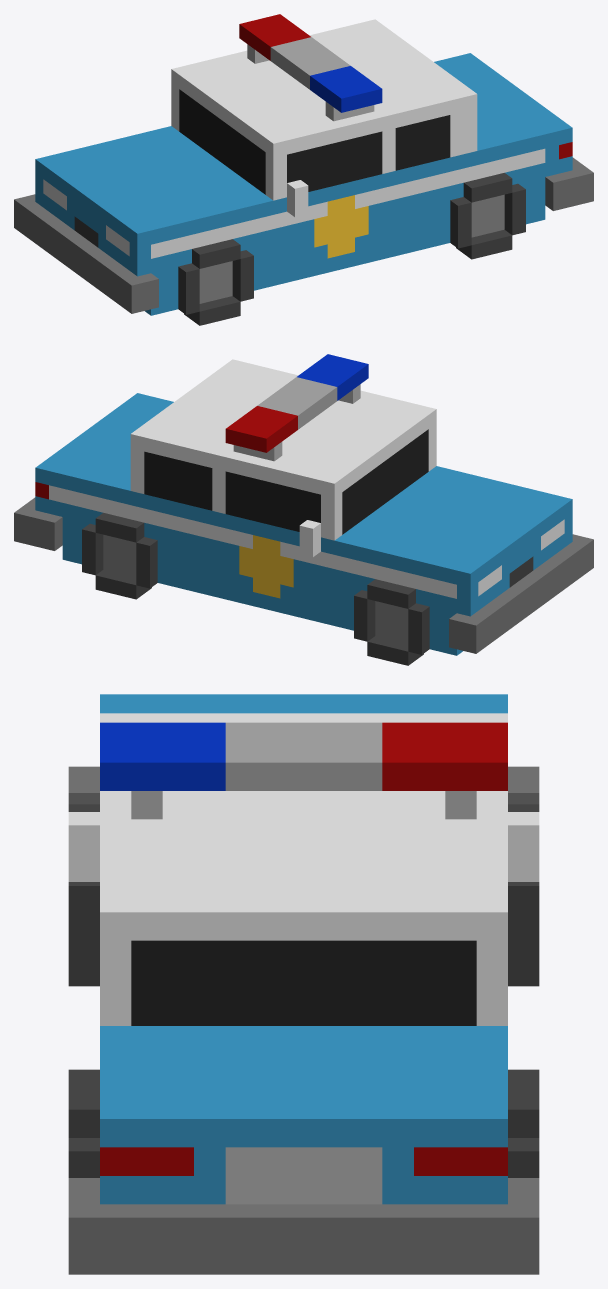
File: policeCar.glb
3 views of the same model, one above another, from view 1: azimuth 30°, elevation 25°; view 2: azimuth 150°, elevation 25°; view 3: azimuth 270°, elevation 25° (orthographic). The views are drawn at different scales.
Visible parts, largest first — view 1: Untitled; view 2: Untitled; view 3: Untitled.
Boxes of the visible parts, x1,y1,x2,y2 form: Untitled: (14,14,593,325); Untitled: (14,354,593,665); Untitled: (68,694,539,1274).
Bounding box in the file's own units: 3.4 × 1.3 × 1.5.
1 material, 1 textured.
